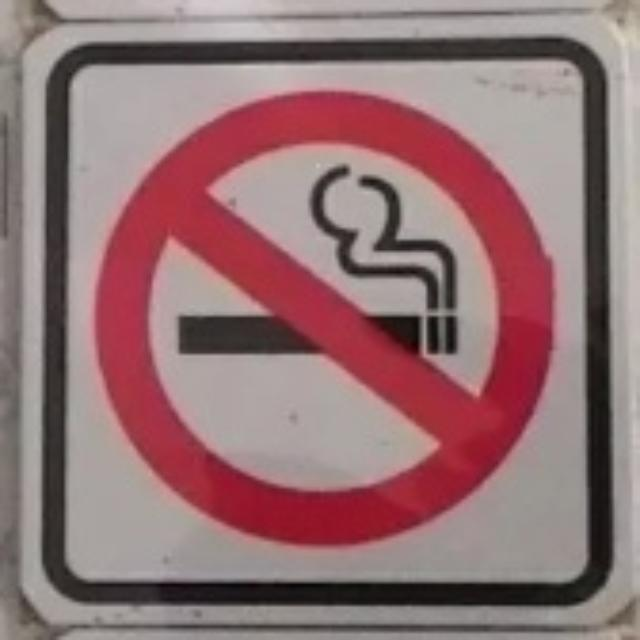cam hut thuoc: (99, 95, 549, 541)
